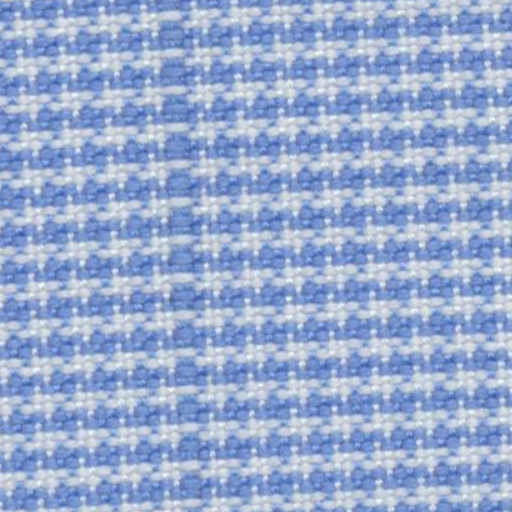TuoSha: (126, 15, 244, 503)
